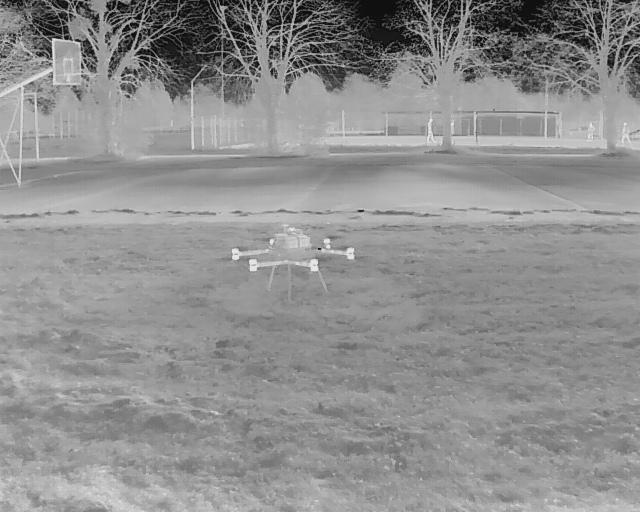drone: (224, 219, 359, 300)
